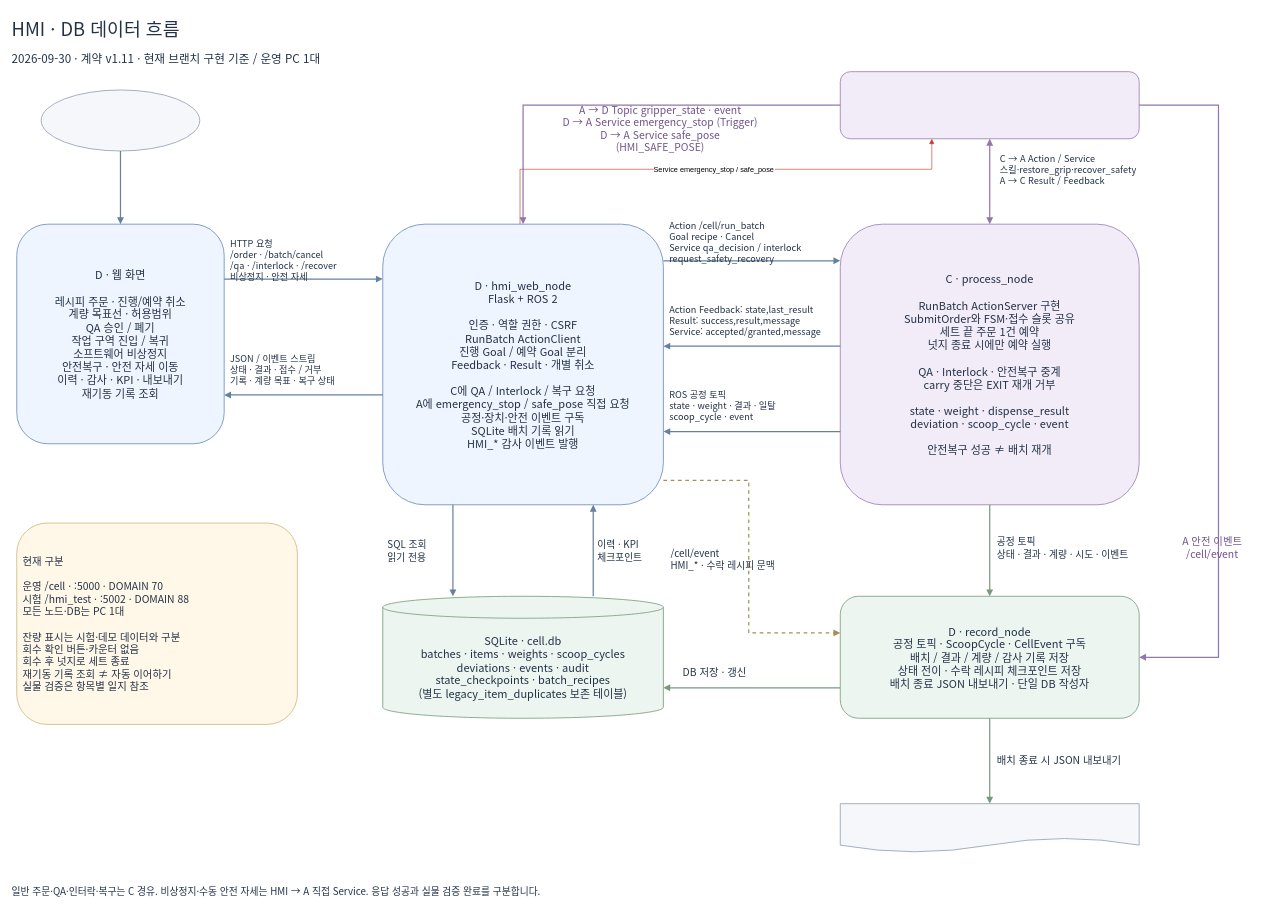
Image size: 1283x914. Some labels were removed from this diagram. Each missing label, with the box of its shape:
A · skill_node 스킬·계량·그리퍼·안전복구 recover_safety · emergency_stop · safe_pose: (840, 71, 1139, 139)
배치별 JSON 기록 사본 웹: CSV / JSON 다운로드: (840, 803, 1139, 853)
작업자 로그인 · 주문 · 확인 · 조회: (40, 89, 200, 151)
